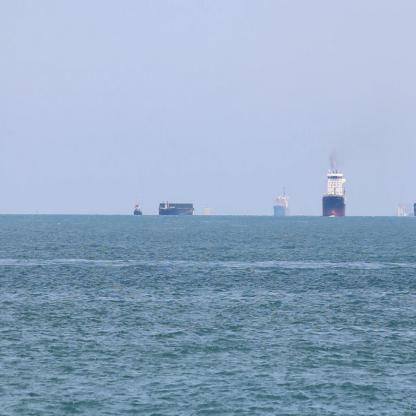Container Ship: (321, 160, 349, 221), (272, 185, 292, 221), (158, 200, 196, 218), (133, 198, 145, 219)
